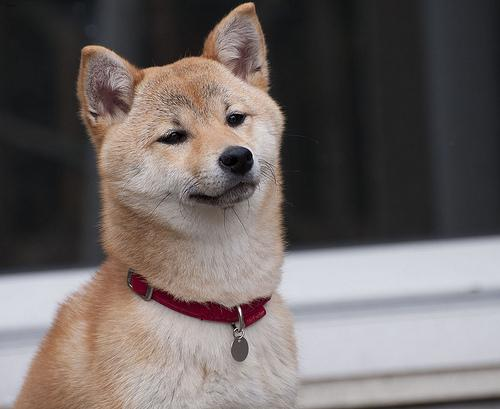dog-shiba_inu: (76, 1, 281, 208)
